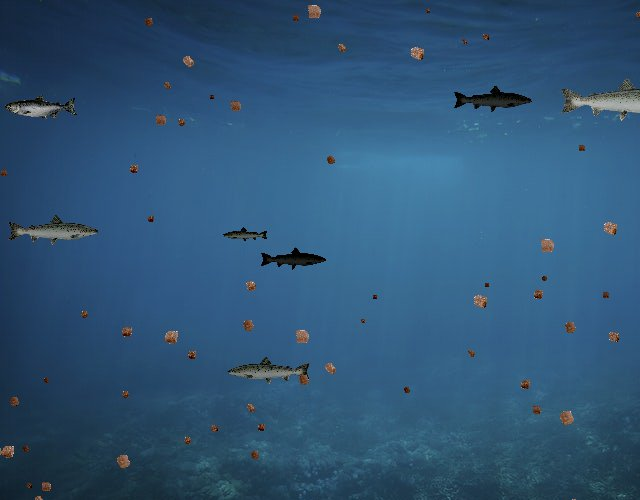Fish: (558, 76, 640, 122), (7, 214, 101, 248), (226, 355, 312, 386), (452, 85, 533, 114), (5, 94, 78, 121), (259, 247, 327, 271), (222, 227, 269, 244)
Pellet: (157, 323, 185, 351), (176, 49, 201, 74), (318, 356, 342, 380), (236, 313, 260, 337), (239, 275, 262, 298), (4, 392, 25, 413), (159, 77, 176, 94), (76, 306, 92, 322), (478, 30, 492, 44), (538, 272, 551, 285), (23, 479, 35, 491)
